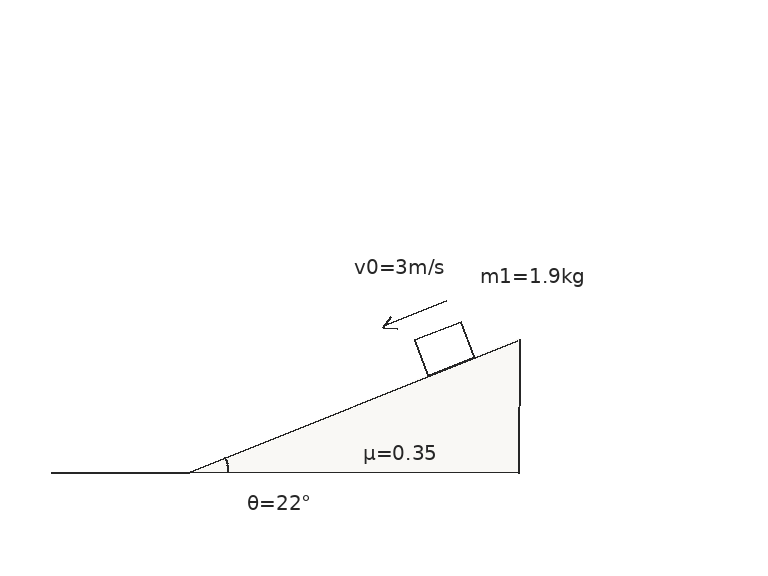block: (411, 320, 476, 377)
ramp: (186, 337, 520, 474)
